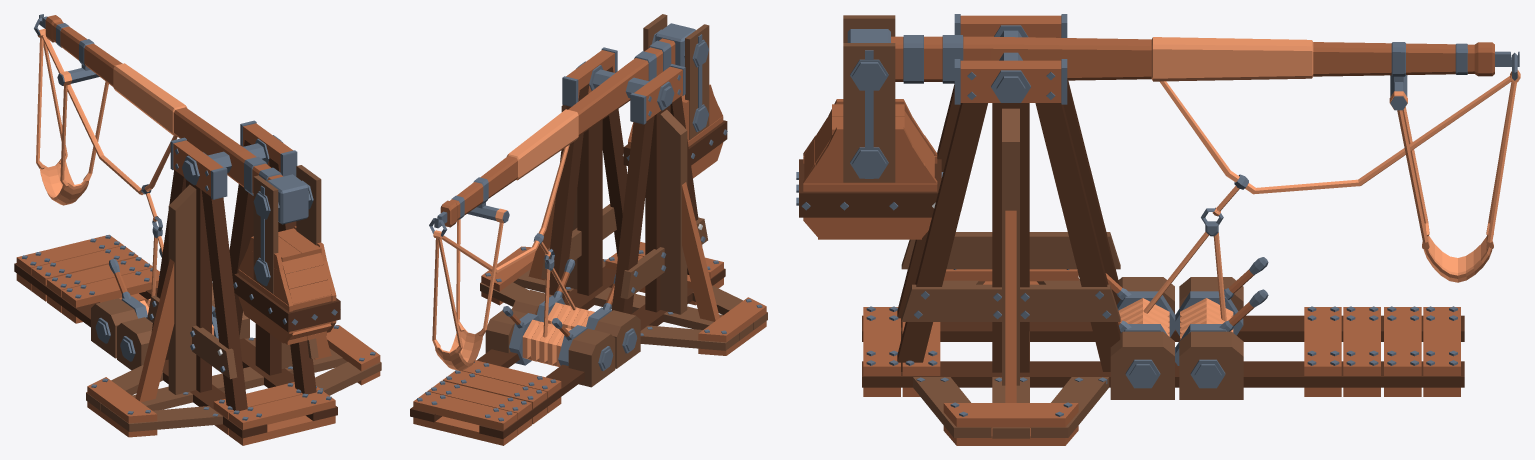
File: Trebuchet.fbx
The picture shows the model from 3 angles, left to right: view 1: azimuth 30°, elevation 25°; view 2: azimuth 150°, elevation 25°; view 3: azimuth 270°, elevation 25°; orthographic projection. The views are drawn at different scales.
Visible parts, largest first — view 1: Cube, Cube.010, Plane, Cube.008, Cube.054, Cube.038, Cube.075, Cylinder.009, Cube.027, Cube.042, Cube.083, Cube.035 (+6 smaller); view 2: Cube, Cube.010, Plane, Cube.008, Cube.038, Cube.083, Cube.075, Cylinder.009, Cube.027, Cube.035, Cube.042, Cylinder.024 (+6 smaller); view 3: Cube, Cube.010, Plane, Cube.008, Cube.075, Cube.083, Cube.054, Cylinder.009, Cube.027, Cube.042, Cube.072, Cube.038 (+5 smaller).
Part boxes in pixels (x1,y1,x2,y2): Cube: [14, 140, 337, 438]; Cube.010: [16, 234, 380, 445]; Plane: [36, 28, 213, 335]; Cube.008: [86, 295, 381, 431]; Cube.054: [238, 226, 336, 344]; Cube.038: [168, 184, 292, 394]; Cube.075: [45, 15, 282, 193]; Cylinder.009: [22, 14, 375, 420]; Cube.027: [170, 120, 297, 199]; Cube.042: [253, 165, 321, 293]; Cube.083: [91, 283, 249, 370]; Cube.035: [135, 259, 331, 402]; Cube: [410, 66, 725, 438]; Cube.010: [413, 241, 766, 445]; Plane: [432, 109, 594, 370]; Cube.008: [480, 204, 767, 350]; Cube.038: [561, 105, 687, 314]; Cube.083: [485, 290, 640, 387]; Cube.075: [440, 38, 675, 227]; Cylinder.009: [417, 40, 762, 421]; Cube.027: [562, 47, 685, 124]; Cube.035: [528, 182, 719, 321]; Cube.042: [643, 14, 709, 139]; Cylinder.024: [509, 295, 611, 365]; Cube: [862, 80, 1464, 387]; Cube.010: [863, 269, 1460, 445]; Plane: [1118, 37, 1520, 339]; Cube.008: [901, 232, 1120, 438]; Cube.075: [891, 36, 1494, 81]; Cube.083: [1110, 277, 1243, 399]; Cube.054: [803, 99, 937, 239]; Cylinder.009: [796, 25, 1519, 416]; Cube.027: [954, 14, 1067, 104]; Cube.042: [843, 15, 895, 182]; Cube.072: [799, 159, 941, 217]; Cube.038: [1002, 108, 1019, 385].
Size of the model in its own units: 710 by 683 by 1332.
